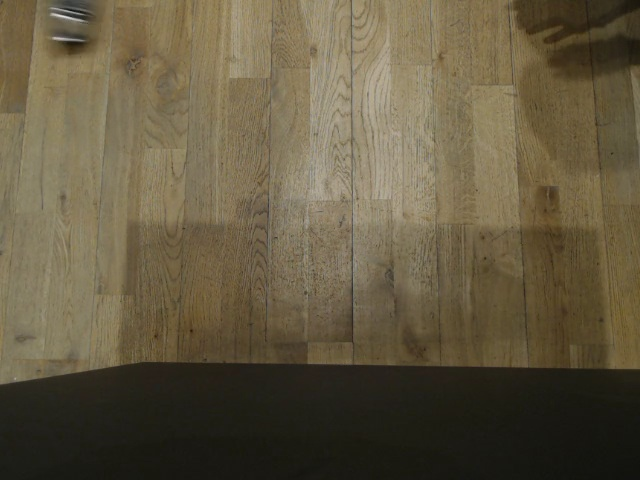beer: (45, 0, 93, 42)
